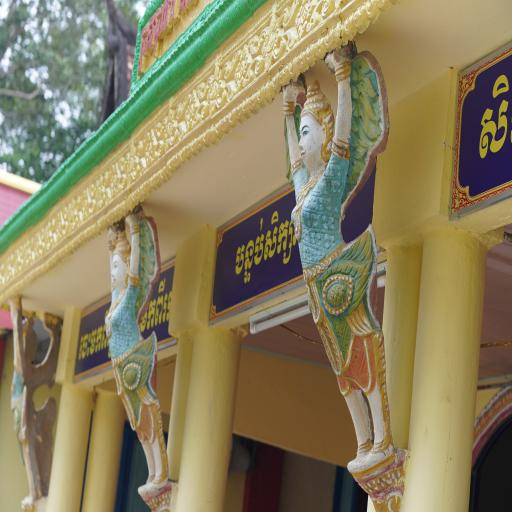than: (278, 42, 412, 508), (104, 211, 179, 512), (0, 294, 63, 512)
